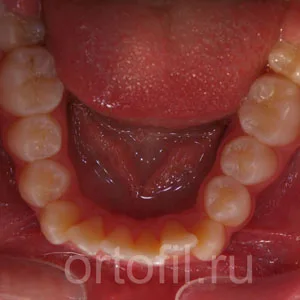LL1BC_healthy: (203, 177, 252, 224)
LL1M_healthy: (236, 72, 300, 141)
LL2BC_healthy: (220, 137, 278, 181)
LLCI_healthy: (135, 231, 158, 256)
LLC_healthy: (195, 219, 223, 254)
LLLI_healthy: (164, 223, 193, 245)
LR1BC_healthy: (22, 166, 67, 204)
LR1M_healthy: (5, 52, 62, 114)
LR2BC_healthy: (13, 118, 60, 158)
LRCI_healthy: (105, 227, 133, 258)
LRC_healthy: (41, 203, 73, 243)
LRLI_healthy: (72, 217, 103, 254)
